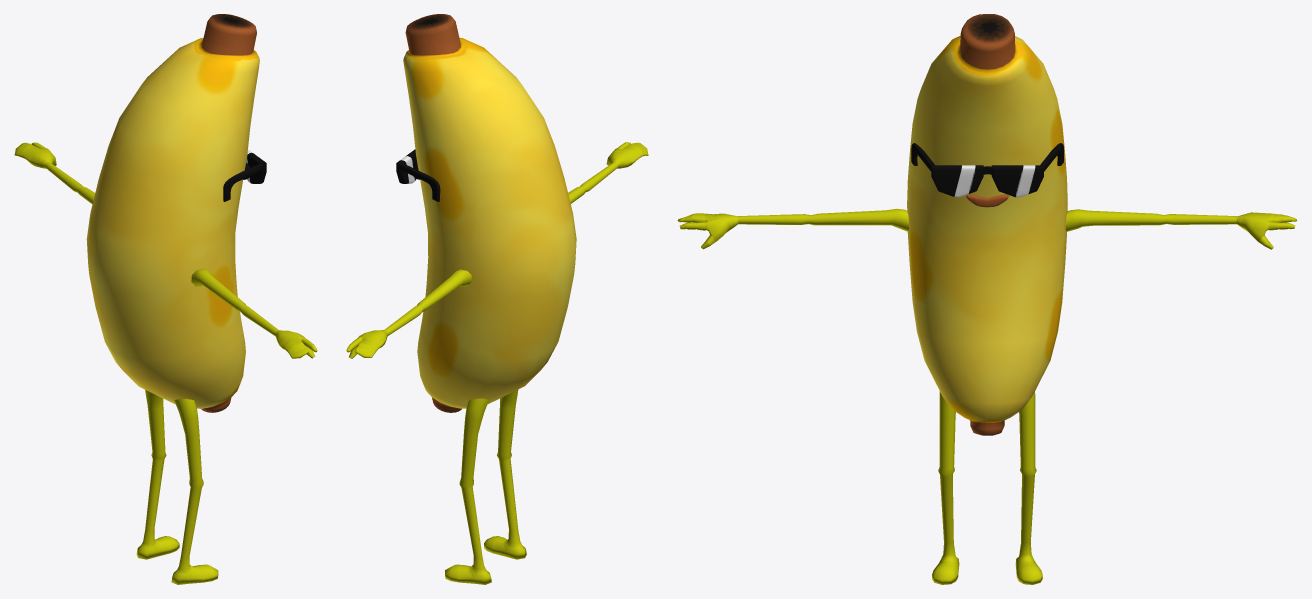
File: Cool Bannana Guy.glb
The picture shows the model from 3 angles, left to right: view 1: azimuth 30°, elevation 25°; view 2: azimuth 150°, elevation 25°; view 3: azimuth 270°, elevation 25°; orthographic projection. The views are drawn at different scales.
Visible parts, largest first — view 1: mesh_char_130; view 2: mesh_char_130; view 3: mesh_char_130.
Part boxes in pixels (x1,y1,x2,y2): mesh_char_130: (14, 14, 317, 584); mesh_char_130: (346, 14, 648, 584); mesh_char_130: (677, 14, 1297, 584).
Size of the model in its own units: 1.71 by 5.47 by 5.3.
1 material, 1 textured.
